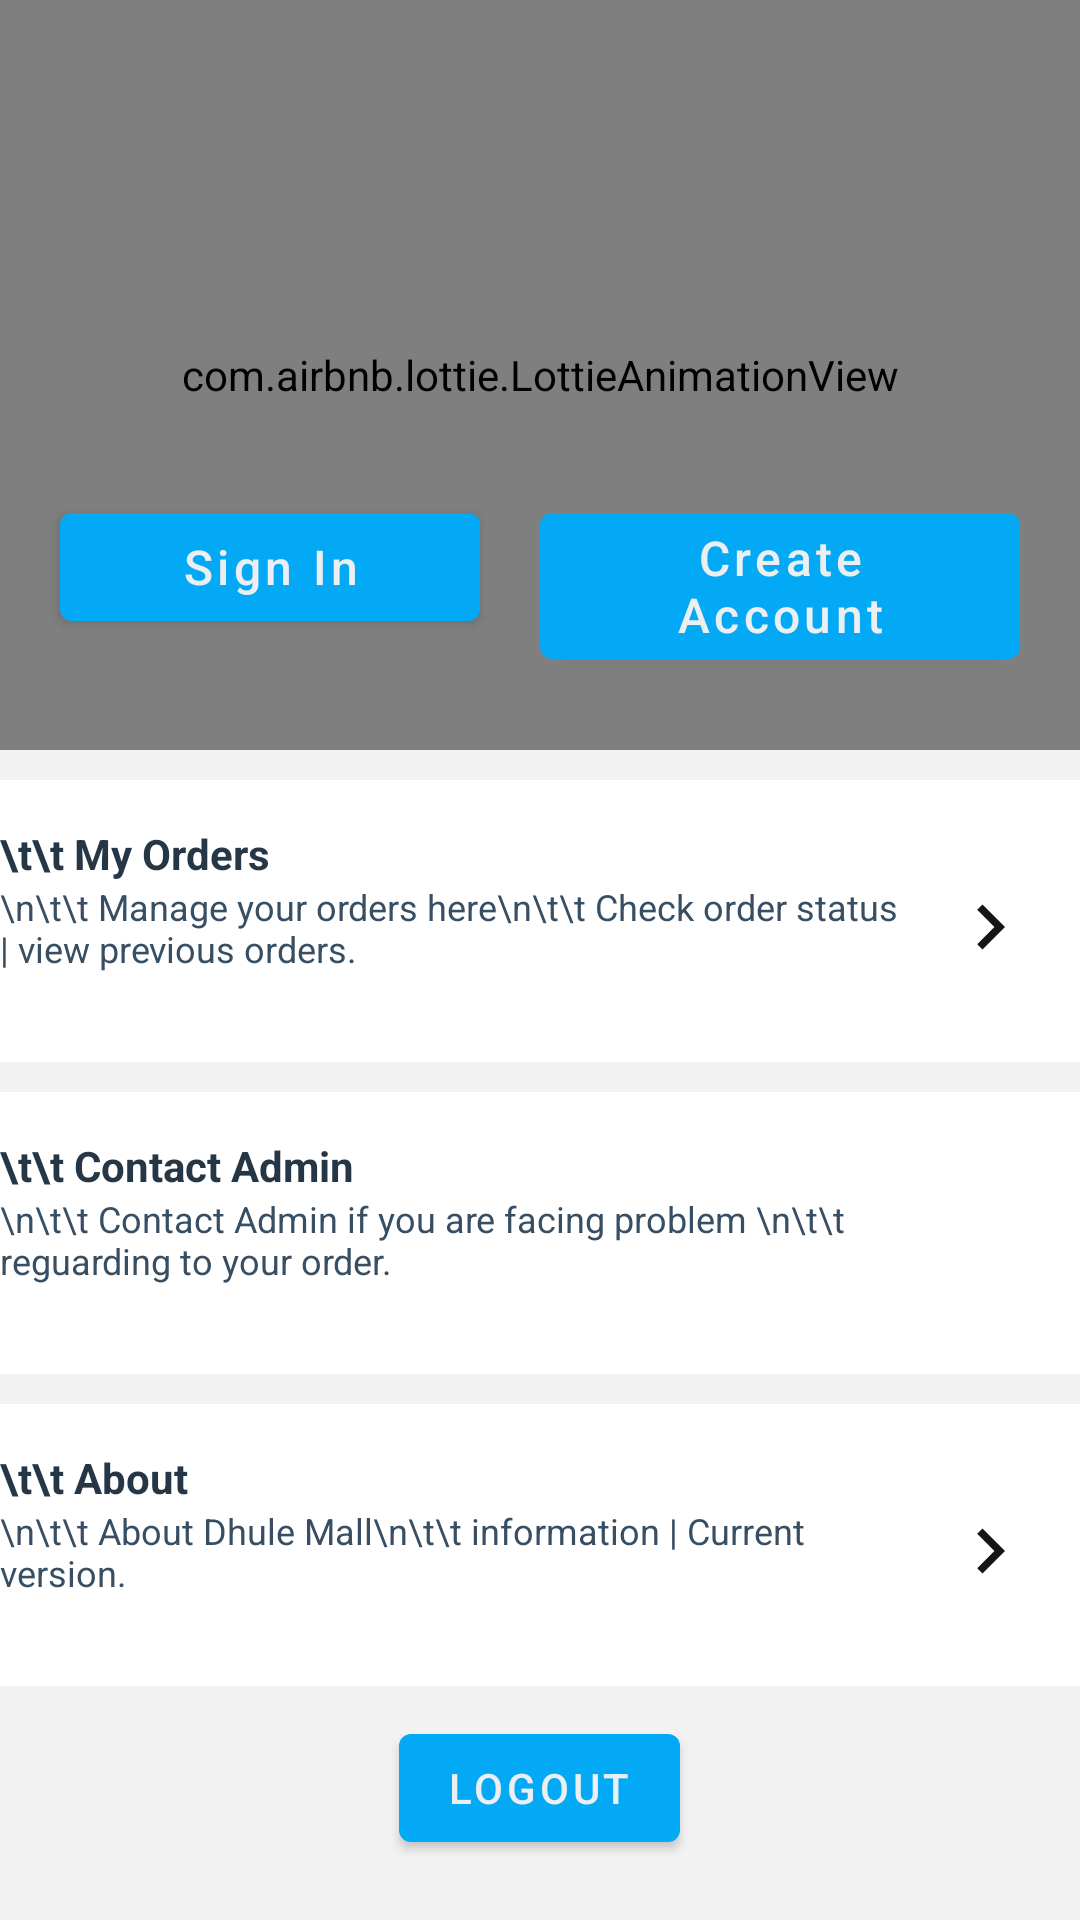

Icon bounding boxes for this 1080 x 1920 phone screenshot, format (x1, y1, x2, y2):
keyboard arrow right: (977, 904, 1005, 950), (977, 1528, 1005, 1574)
